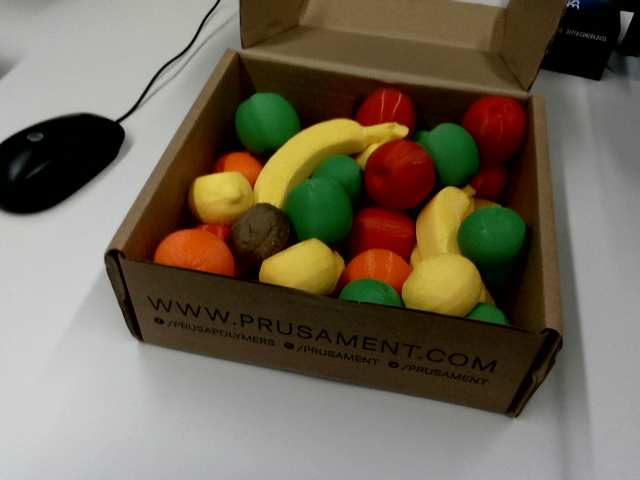banana: (234, 84, 410, 218), (407, 176, 475, 267), (257, 231, 342, 296)
green apple: (443, 193, 533, 288), (221, 79, 307, 164), (409, 113, 491, 195), (280, 175, 355, 248), (310, 145, 378, 212)
lemon: (391, 240, 493, 337), (186, 169, 254, 230)
orange: (152, 222, 241, 277), (341, 245, 413, 294), (211, 141, 265, 191)
red apple: (355, 129, 445, 218), (455, 86, 538, 170), (353, 79, 425, 142), (349, 205, 415, 261), (467, 157, 510, 202)
walnut: (217, 194, 301, 277)
